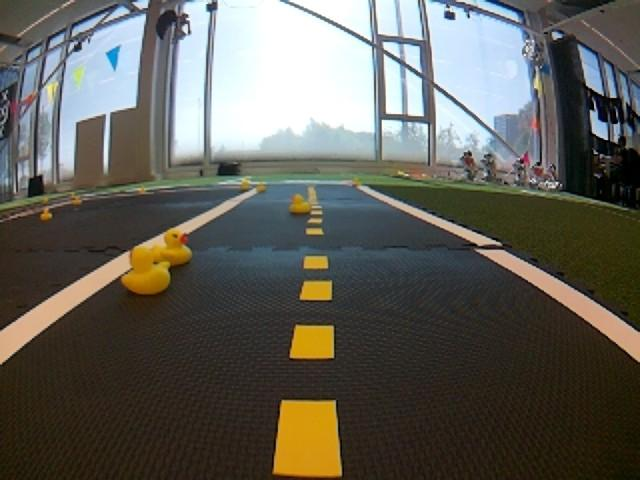Duckies: (123, 246, 172, 295), (156, 231, 190, 265), (290, 193, 310, 213), (39, 208, 52, 220), (239, 178, 250, 190), (256, 183, 267, 191), (72, 197, 82, 204), (353, 178, 361, 185), (139, 187, 148, 193), (43, 197, 49, 203)
